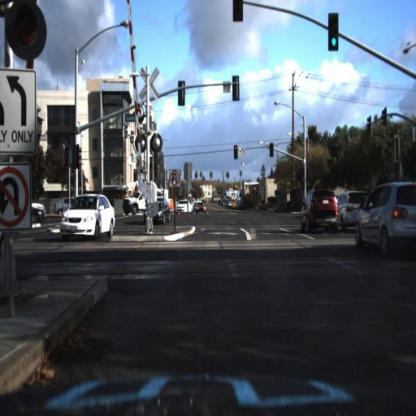biker: (280, 200, 286, 214)
car: (354, 180, 414, 250), (59, 193, 117, 240), (300, 184, 342, 233), (336, 189, 370, 235), (144, 198, 172, 226), (147, 198, 172, 223), (176, 198, 191, 216), (195, 200, 209, 216), (197, 202, 207, 216)
trafficLight: (8, 4, 53, 69), (328, 13, 340, 51), (232, 1, 244, 25), (233, 140, 240, 162), (269, 140, 276, 158)
trafficLight-Green: (300, 163, 306, 183)
truck: (119, 184, 162, 218)
